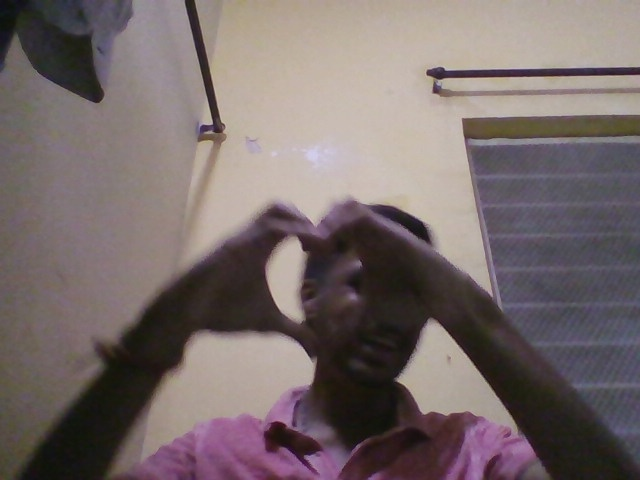iloveyou: (170, 159, 461, 394)
